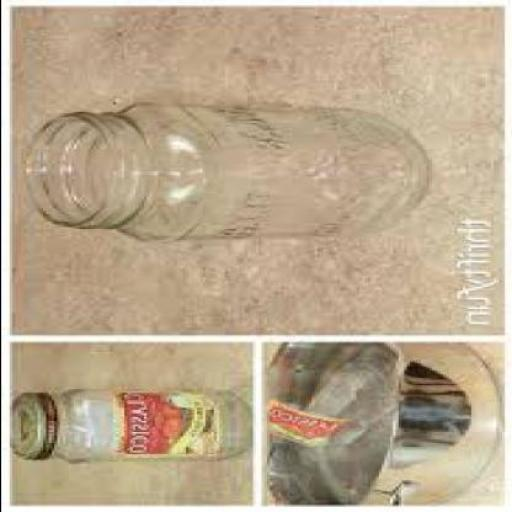glass: (19, 103, 425, 238), (44, 387, 246, 459)
metal: (260, 343, 501, 503), (6, 391, 53, 458)
